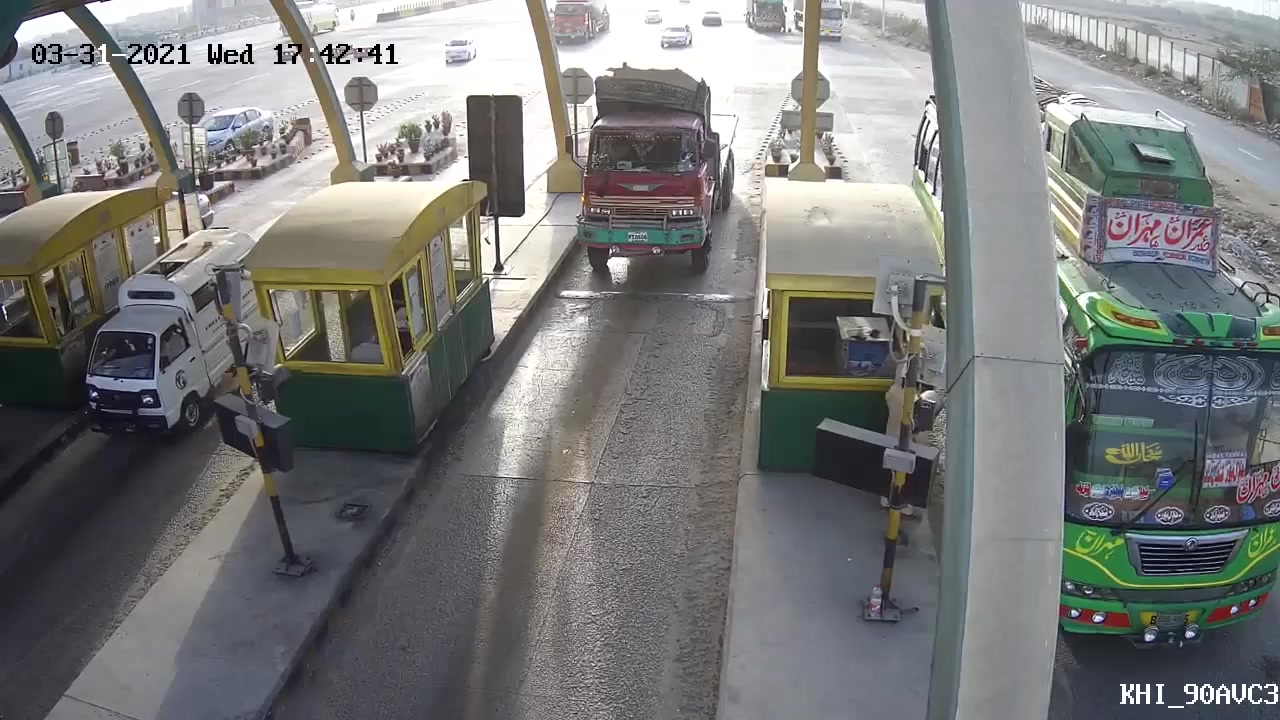F5: (562, 54, 744, 294)
